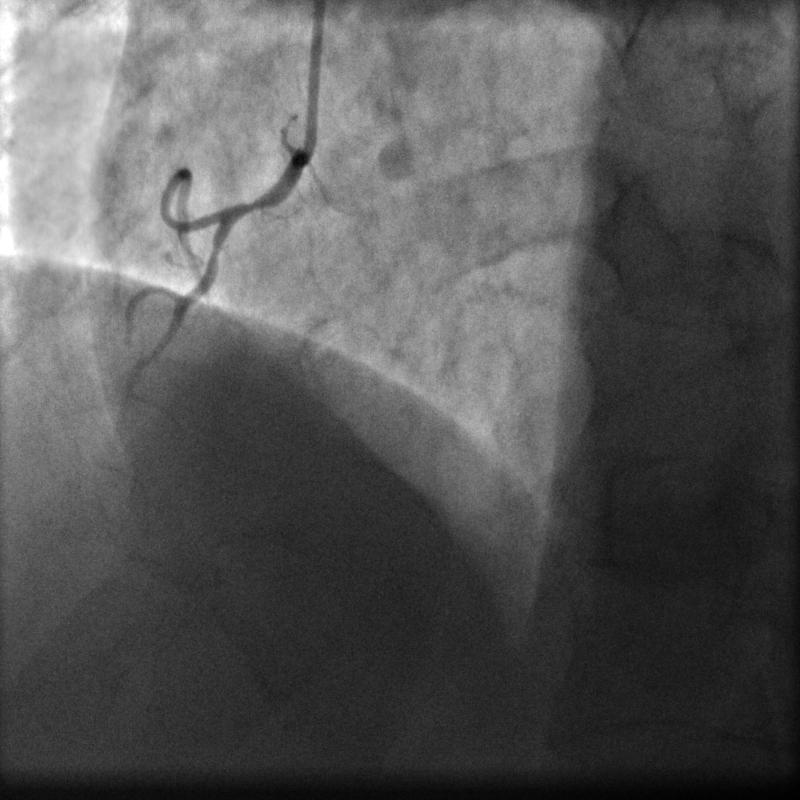Stenosis: (231, 188, 272, 225)
